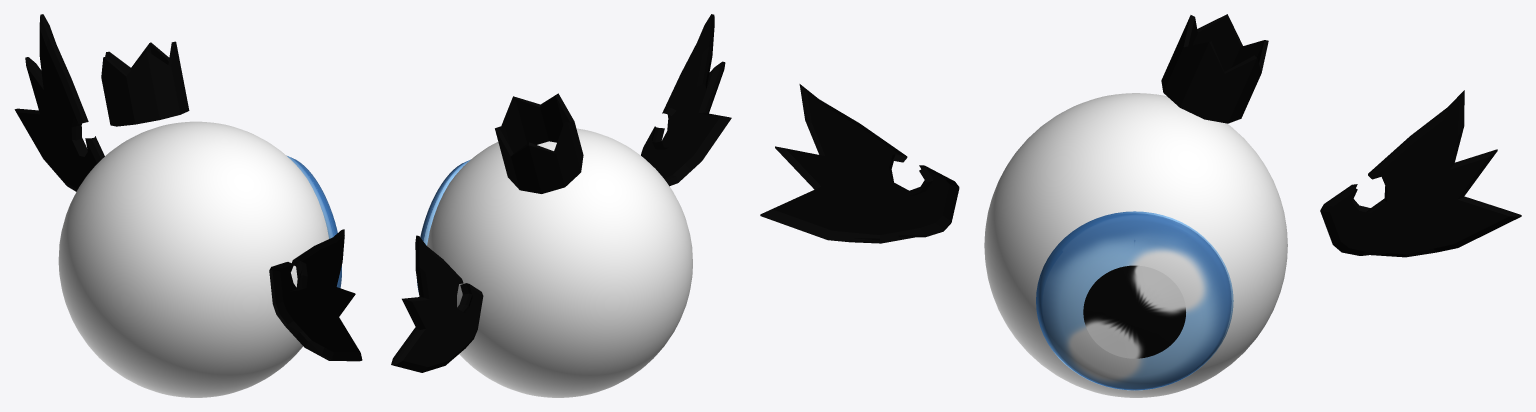
The model's file is eye-60a93634.glb.
3 renders of one model, left to right at view 1: azimuth 30°, elevation 25°; view 2: azimuth 150°, elevation 25°; view 3: azimuth 270°, elevation 25°, orthographic. The views are drawn at different scales.
Parts seen in each view (by area): view 1: Sphere_2, Plane_3; view 2: Sphere_2, Plane_3; view 3: Sphere_2, Plane_3.
Part boxes in pixels (bbox=[...]): Sphere_2: bbox=[58, 121, 341, 397]; Plane_3: bbox=[14, 14, 362, 361]; Sphere_2: bbox=[416, 128, 692, 397]; Plane_3: bbox=[391, 14, 731, 372]; Sphere_2: bbox=[984, 93, 1287, 397]; Plane_3: bbox=[760, 14, 1521, 257].
Size of the model in its own units: 1.98 by 2.56 by 4.95.
Materials: 5 (3 with a texture image).
